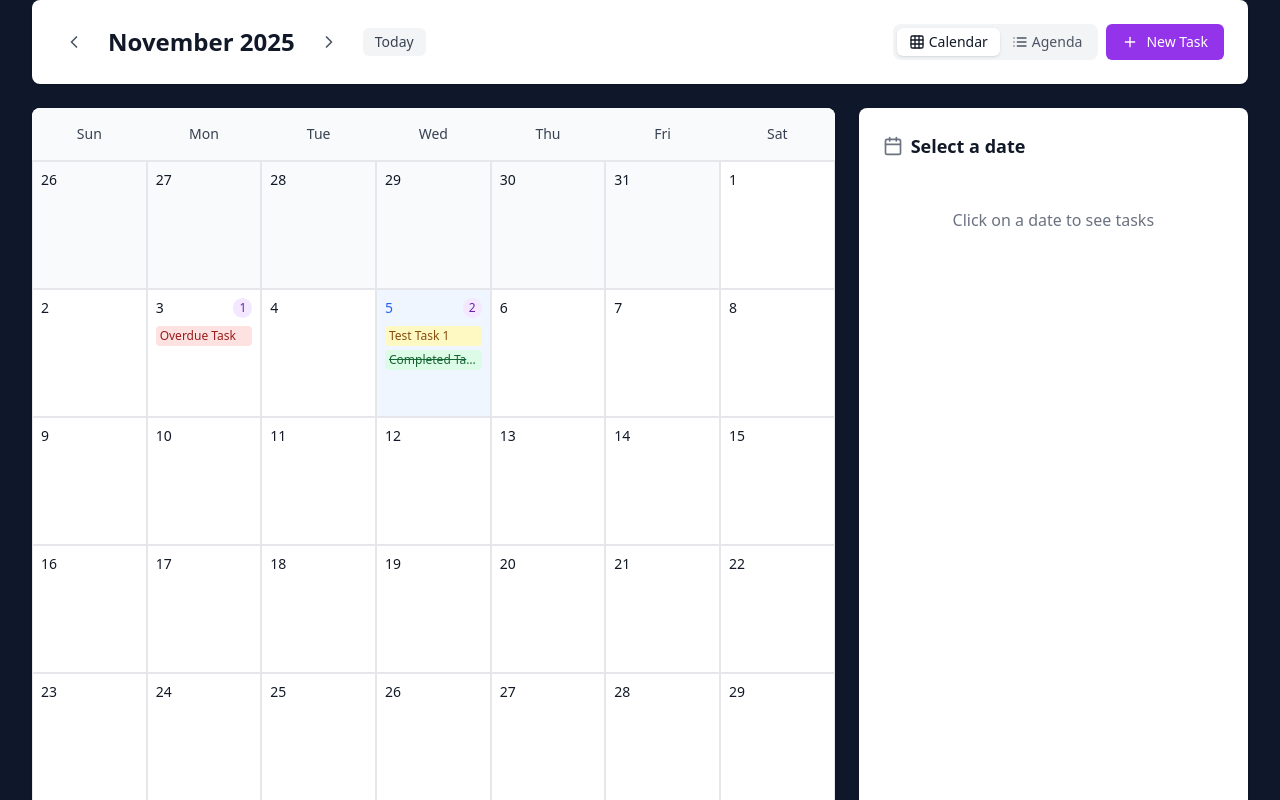
TaskCalendar › Navigation › should navigate to next month
Expected: the heading "November 2025" is shown, x1=108 y1=26 x2=295 y2=58
Note: Click the second chevron button (next month)
Click the 2nd button: point(329, 42) x1=311 y1=24 x2=347 y2=60
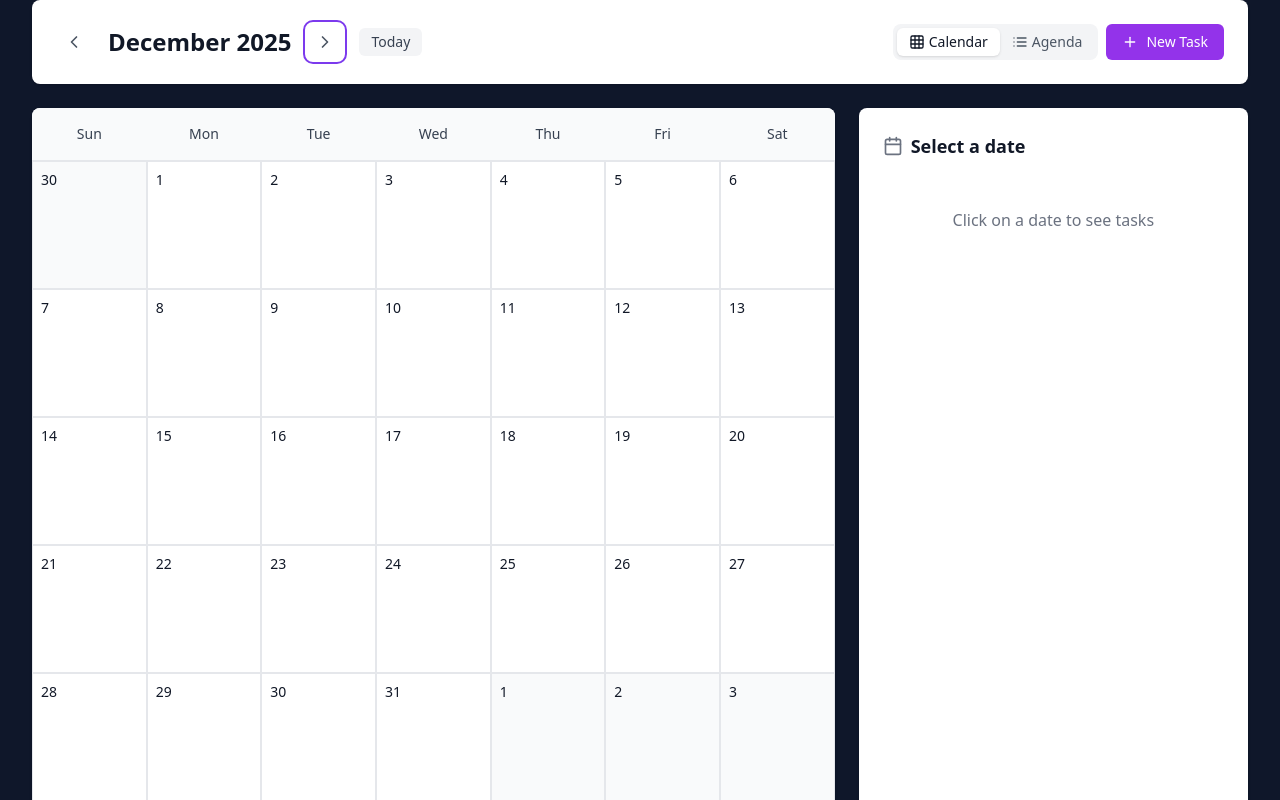
Expected: the heading "December 2025" is shown, x1=108 y1=26 x2=292 y2=58
